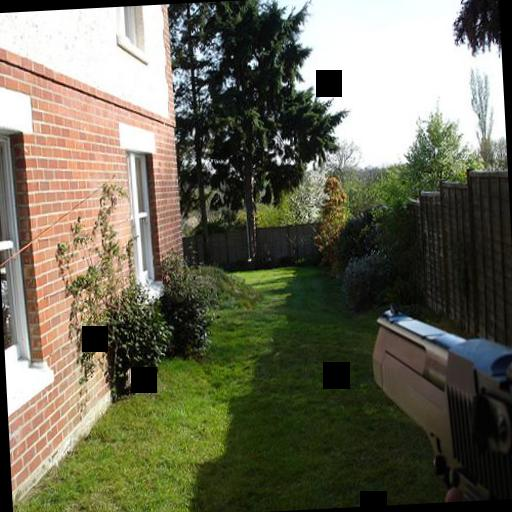Handgun: (365, 293, 512, 503)
